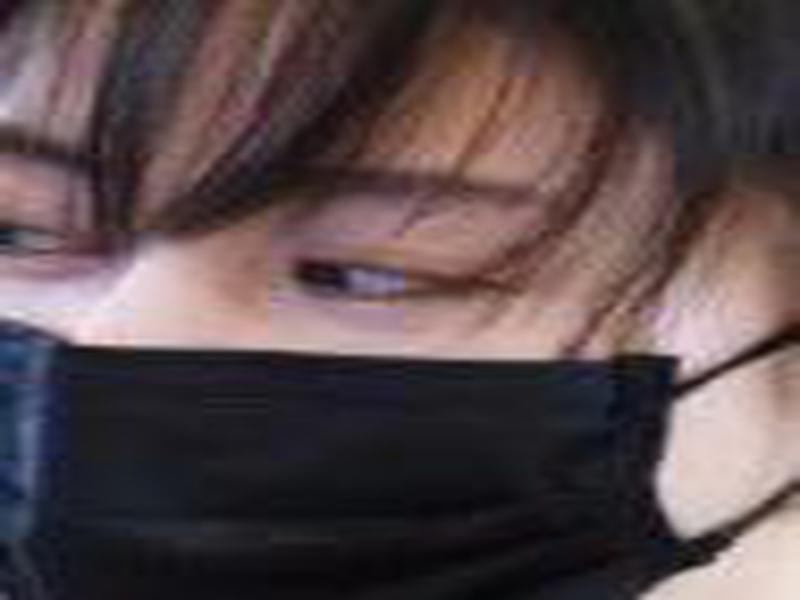with_mask: (1, 1, 796, 594)
